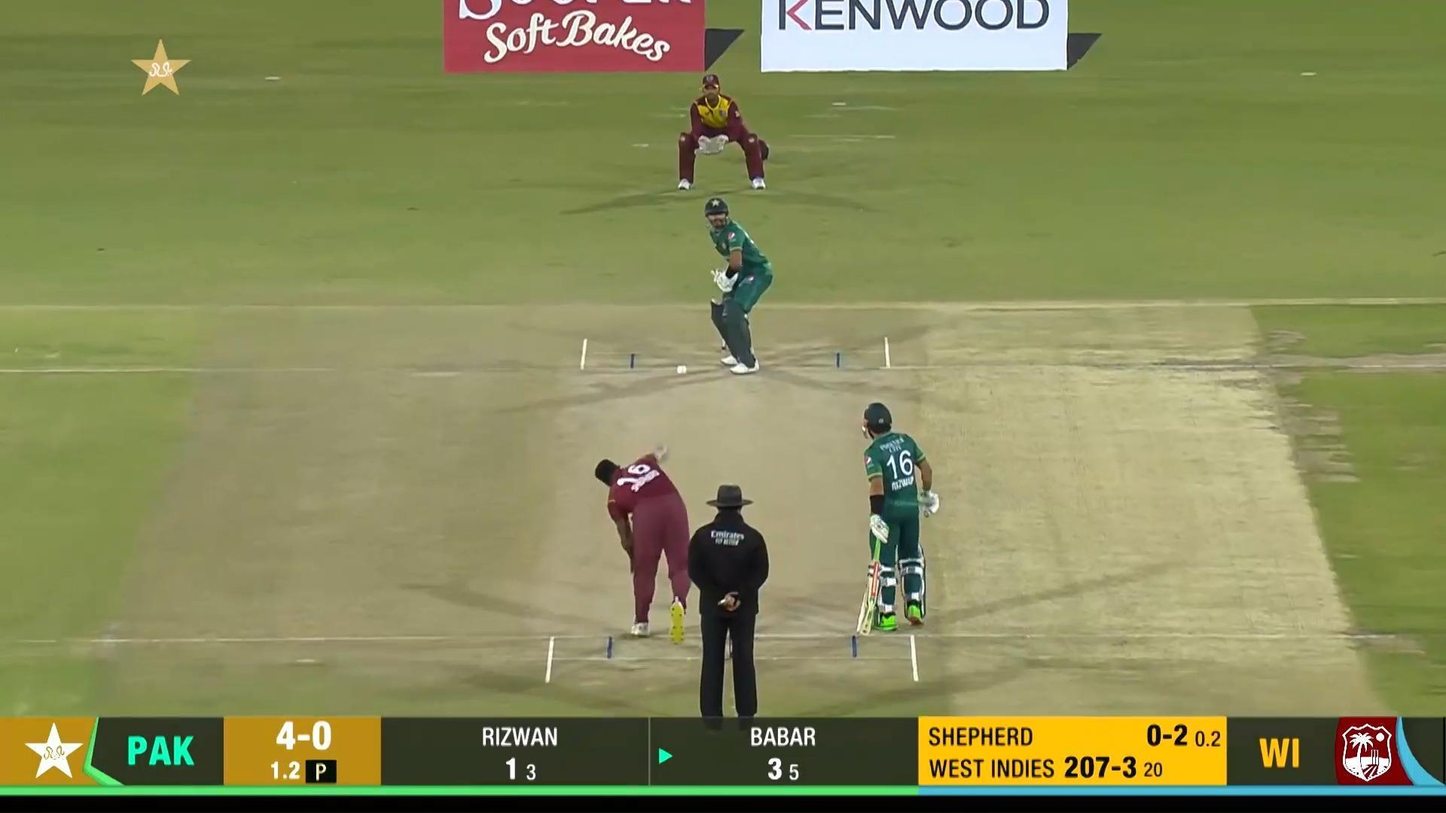BM 1: (703, 198, 773, 374)
BO: (593, 445, 691, 647)
